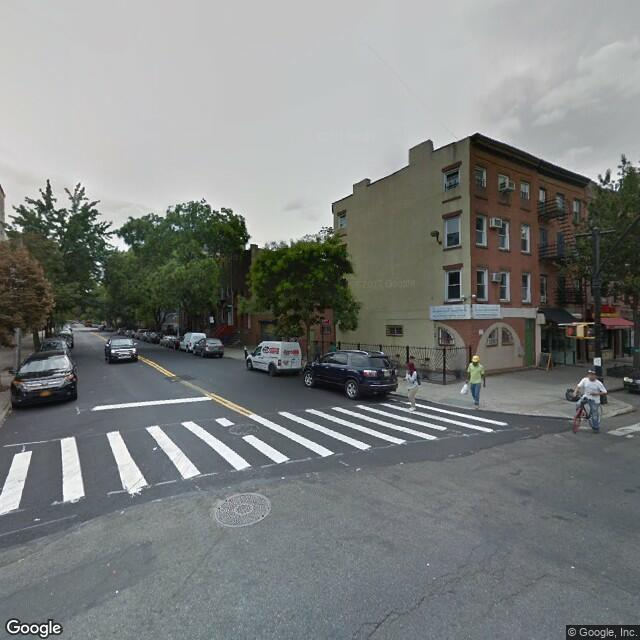litter: (354, 467, 362, 471), (281, 475, 286, 480), (33, 517, 43, 519), (152, 446, 160, 448), (400, 460, 404, 463)
